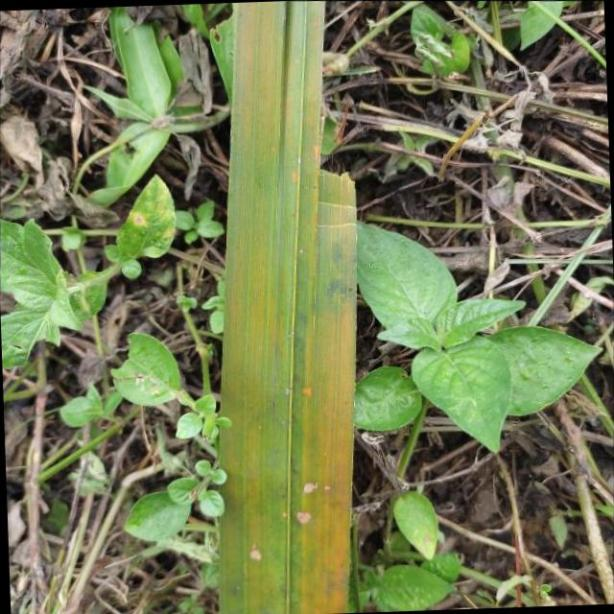Megnesium: (217, 0, 360, 614)
